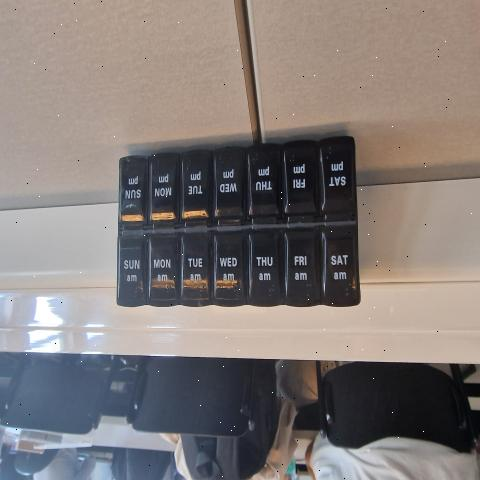PillBox: (86, 131, 370, 320)
